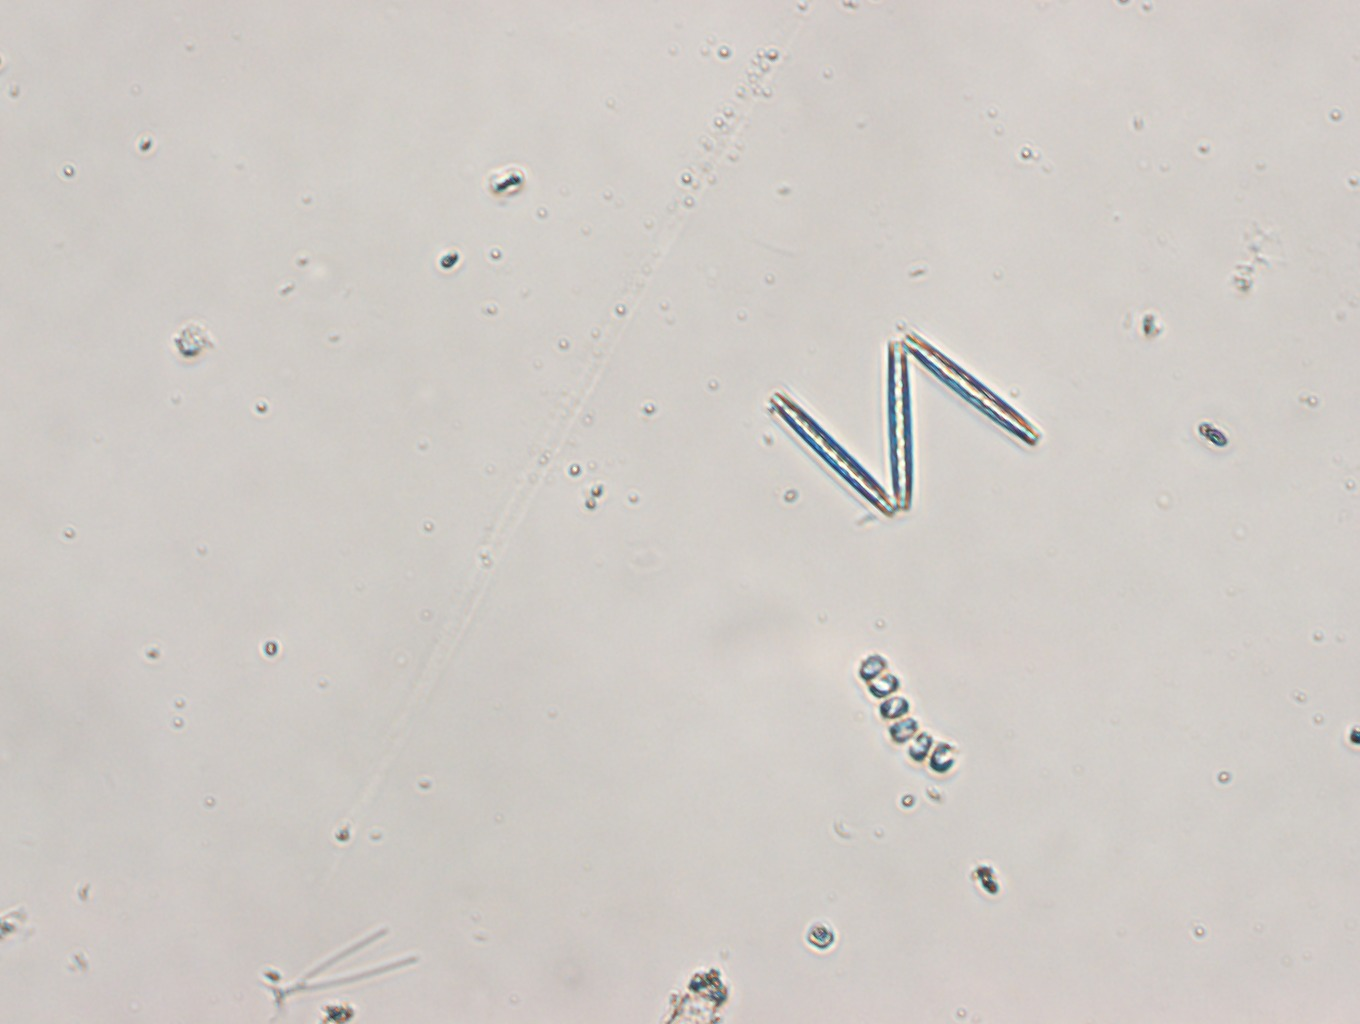skeletonema: (855, 652, 960, 777)
thalassionema nitzschioides: (762, 329, 1045, 520)
